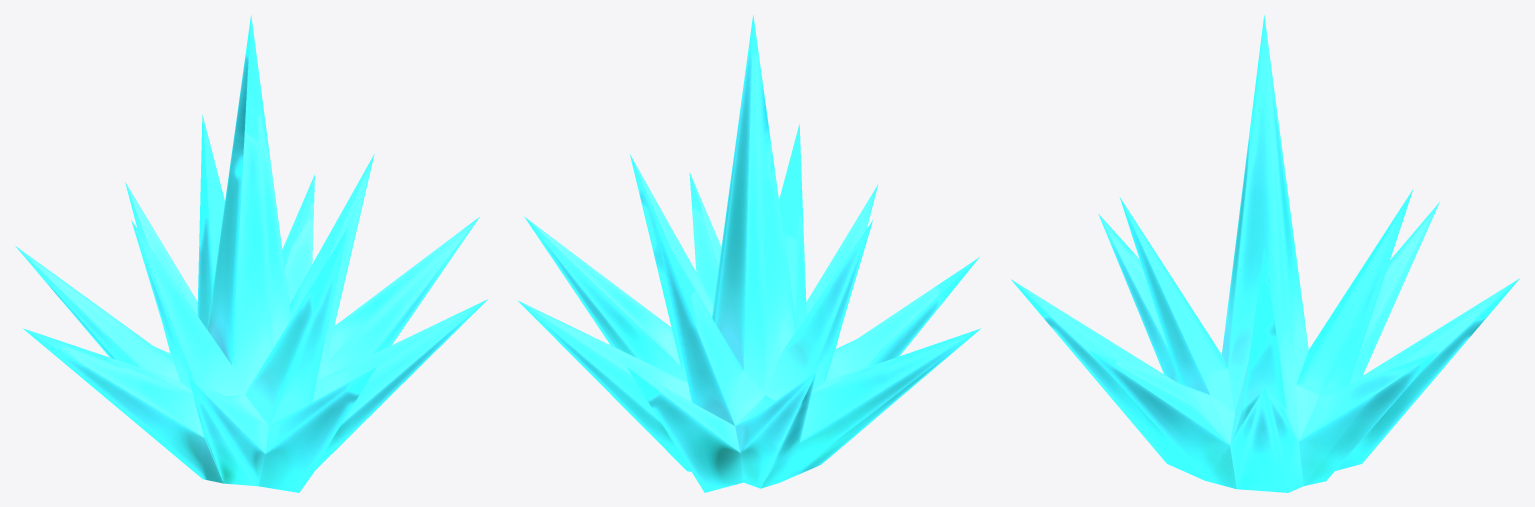
File: crystal_sharp_blue.fbx
3 renders of one model, left to right at view 1: azimuth 30°, elevation 25°; view 2: azimuth 150°, elevation 25°; view 3: azimuth 270°, elevation 25°, orthographic.
Parts seen in each view (by area): view 1: crystal_sharp_blue; view 2: crystal_sharp_blue; view 3: crystal_sharp_blue.
Part boxes in pixels (x1=…): crystal_sharp_blue: x1=15, y1=14, x2=487, y2=492; crystal_sharp_blue: x1=517, y1=15, x2=980, y2=492; crystal_sharp_blue: x1=1011, y1=15, x2=1519, y2=492.
Bounding box in the file's own units: 1.88 × 1.74 × 1.79.
